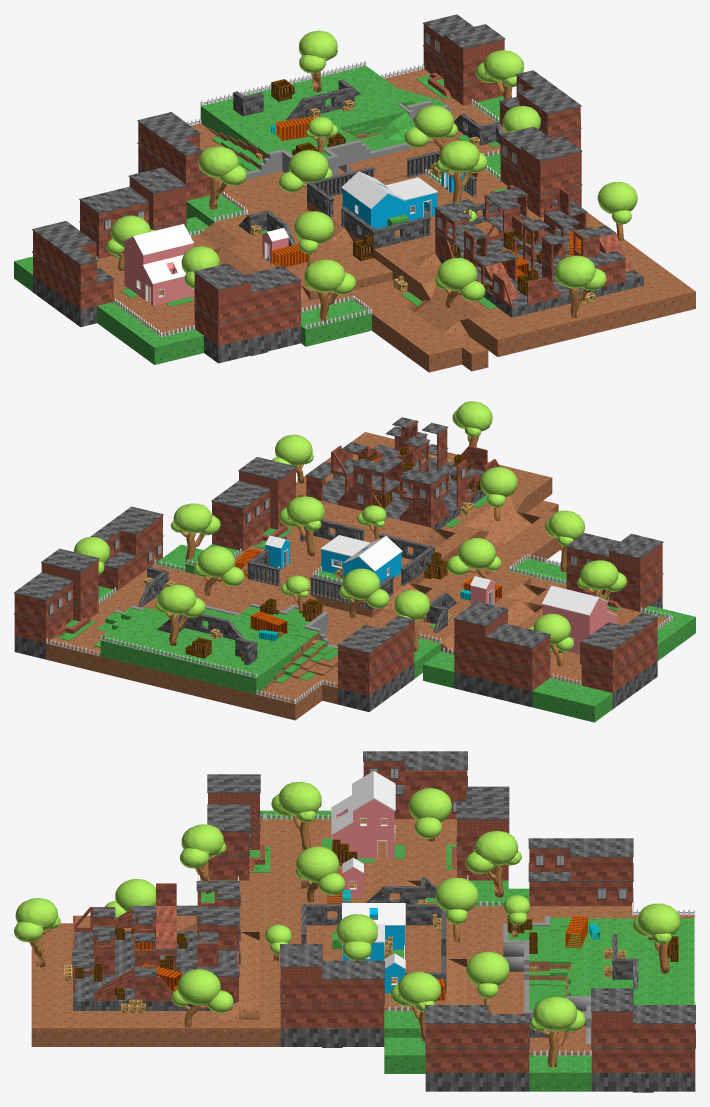
File: sigmacplze.glb
3 views of the same model, one above another, from view 1: azimuth 30°, elevation 25°; view 2: azimuth 150°, elevation 25°; view 3: azimuth 270°, elevation 25° (orthographic). The views are drawn at different scales.
Visible parts, largest first — view 1: Dirt.412; view 2: Dirt.412; view 3: Dirt.412.
Part boxes in pixels (x1,y1,x2,y2): Dirt.412: [14, 14, 695, 372]; Dirt.412: [14, 401, 695, 722]; Dirt.412: [14, 751, 695, 1092].
Size of what is drawn, in the model's own units: 64.15 by 12.12 by 65.77.
25 materials, 7 textured.
